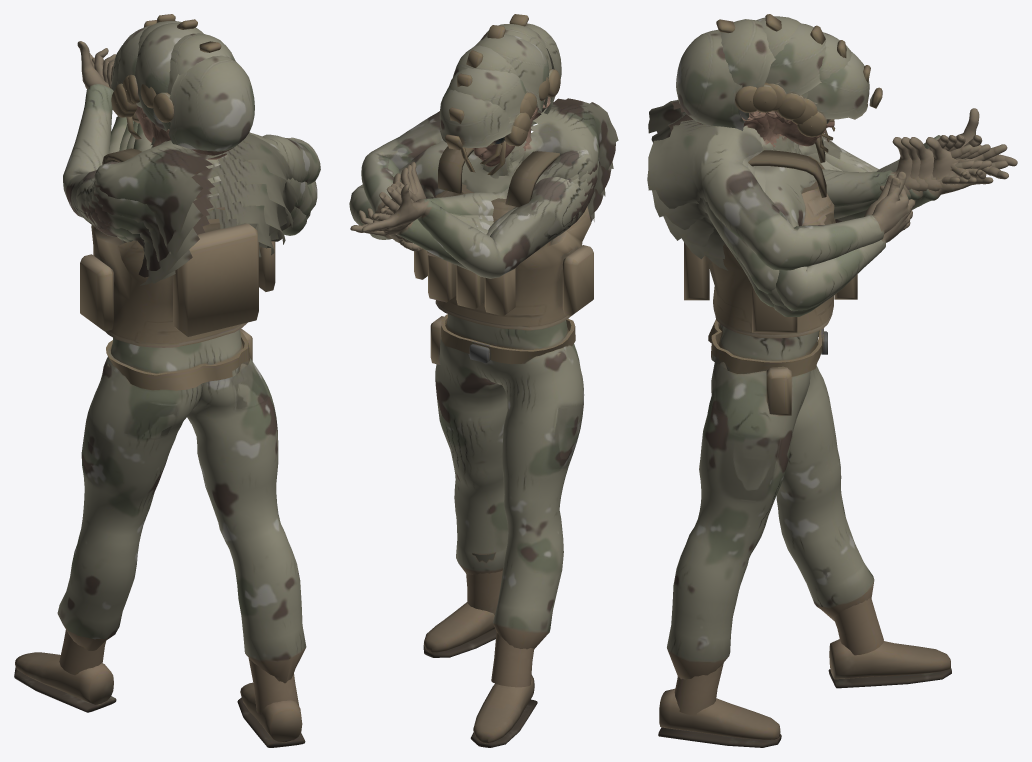
File: crew_stinger.glb
3 renders of one model, left to right at view 1: azimuth 30°, elevation 25°; view 2: azimuth 150°, elevation 25°; view 3: azimuth 270°, elevation 25°, orthographic. The views are drawn at different scales.
Visible parts, largest first — view 1: turret, ca5, th5, ca4, ca0, ca3, ca2, th3, th4, ca1, th1, th0; view 2: turret, ca0, ca5, th0, th1, th3, ca1, th5, th2, th4, ca4, ca3 (+1 smaller); view 3: turret, ca5, ca0, th5, ca4, th0, th4, th2, ca1, ca3, ca2, th3 (+1 smaller).
Boxes of the visible parts, x1=… form: turret: x1=14, y1=148, x2=306, y2=747; ca5: x1=94, y1=70, x2=320, y2=254; th5: x1=150, y1=41, x2=254, y2=159; ca4: x1=93, y1=64, x2=312, y2=261; ca0: x1=63, y1=41, x2=317, y2=242; ca3: x1=91, y1=59, x2=307, y2=273; ca2: x1=88, y1=54, x2=310, y2=283; th3: x1=128, y1=14, x2=203, y2=146; th4: x1=140, y1=19, x2=235, y2=147; ca1: x1=84, y1=48, x2=261, y2=285; th1: x1=114, y1=25, x2=157, y2=139; th0: x1=111, y1=45, x2=212, y2=178; turret: x1=414, y1=146, x2=593, y2=747; ca0: x1=349, y1=143, x2=577, y2=278; ca5: x1=361, y1=98, x2=618, y2=243; th0: x1=440, y1=86, x2=527, y2=177; th1: x1=449, y1=68, x2=530, y2=177; th3: x1=466, y1=34, x2=549, y2=175; ca1: x1=365, y1=140, x2=581, y2=270; th5: x1=481, y1=14, x2=561, y2=177; th2: x1=453, y1=45, x2=533, y2=178; th4: x1=480, y1=24, x2=551, y2=178; ca4: x1=394, y1=122, x2=613, y2=251; ca3: x1=384, y1=125, x2=605, y2=246; turret: x1=658, y1=136, x2=951, y2=747; ca5: x1=647, y1=100, x2=970, y2=270; ca0: x1=765, y1=108, x2=1017, y2=310; th5: x1=676, y1=19, x2=799, y2=153; ca4: x1=651, y1=113, x2=974, y2=293; th0: x1=772, y1=52, x2=882, y2=152; th4: x1=720, y1=14, x2=798, y2=153; th2: x1=756, y1=23, x2=846, y2=148; ca1: x1=705, y1=135, x2=1008, y2=316; ca3: x1=663, y1=135, x2=982, y2=307; ca2: x1=681, y1=135, x2=991, y2=308; th3: x1=756, y1=16, x2=825, y2=153.
Size of the model in its own units: 0.6637 by 1.85 by 0.8958.
Materials: 1 (1 with a texture image).
